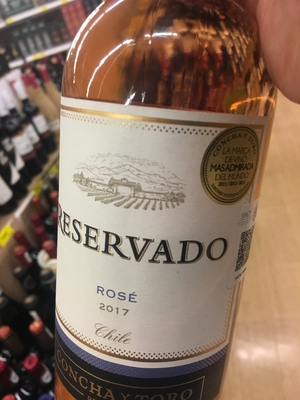reservado rose: (48, 2, 279, 400)
